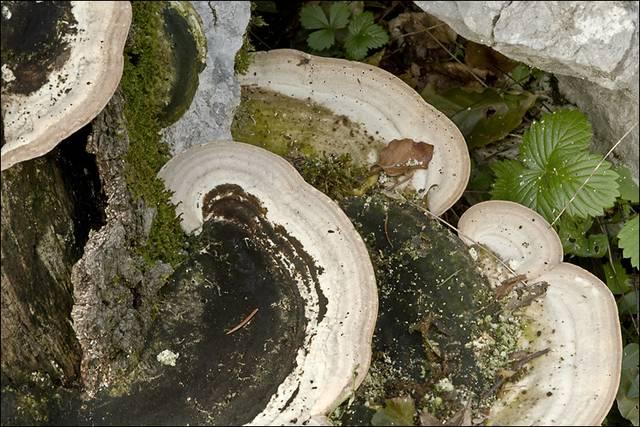poisonous_mushroom: (3, 0, 463, 427), (454, 198, 623, 425)
